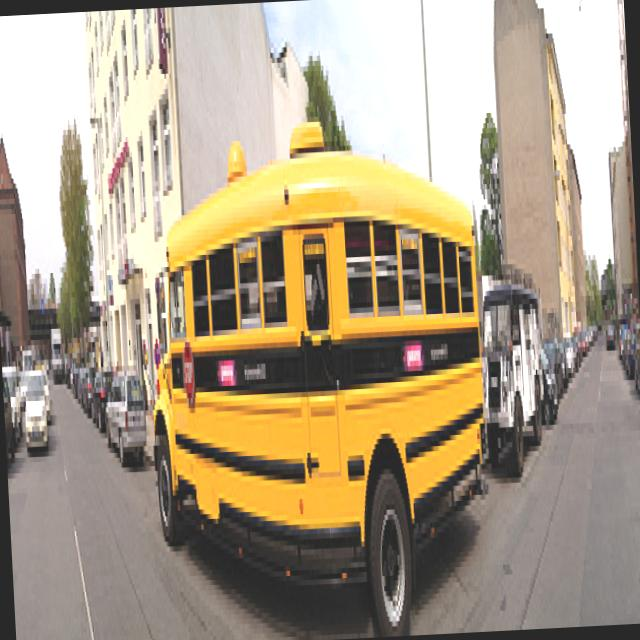Vehicle: (2, 79, 640, 640), (138, 118, 497, 640), (476, 261, 550, 475), (102, 367, 148, 469), (24, 372, 48, 448), (2, 366, 23, 452), (540, 350, 562, 428), (88, 367, 110, 433), (2, 372, 14, 474), (553, 339, 570, 390), (82, 366, 98, 416), (50, 330, 64, 387), (564, 332, 576, 378), (605, 324, 616, 348), (574, 332, 582, 358)
